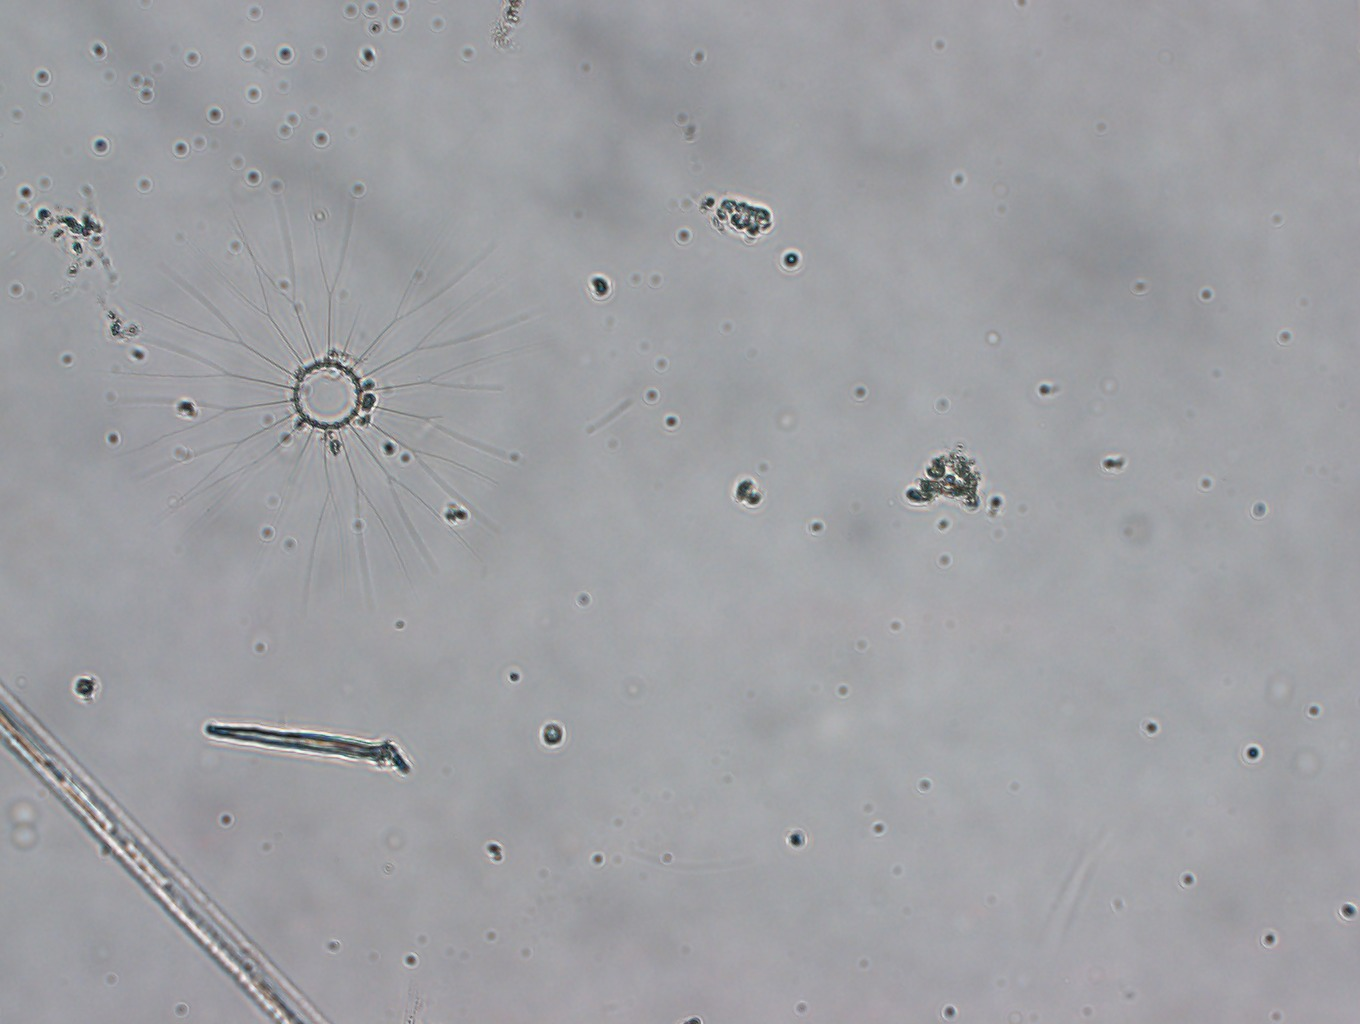bacteriastrum: (121, 184, 545, 625)
